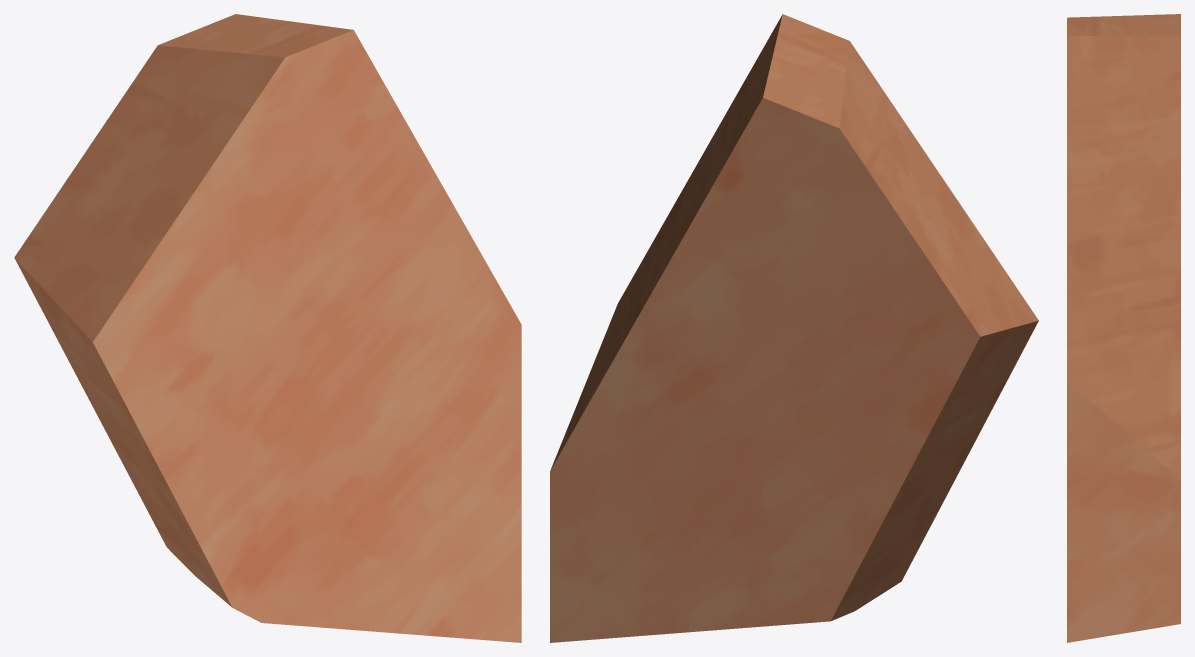
Rendered from wall2_plain_s06.fbx.
3 views of the same model, side by side, from view 1: azimuth 30°, elevation 25°; view 2: azimuth 150°, elevation 25°; view 3: azimuth 270°, elevation 25° (orthographic). The views are drawn at different scales.
Visible parts, largest first — view 1: wall2_plain_s06; view 2: wall2_plain_s06; view 3: wall2_plain_s06.
Part boxes in pixels (<box>): wall2_plain_s06: <box>14,14,521,642</box>; wall2_plain_s06: <box>550,14,1038,642</box>; wall2_plain_s06: <box>1067,14,1180,642</box>.
Bounding box in the file's own units: 3.66 × 5.22 × 1.
